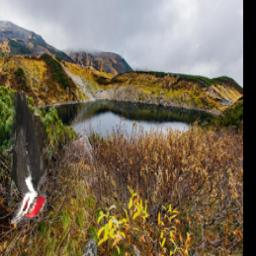Woodpecker: (3, 92, 46, 224)
